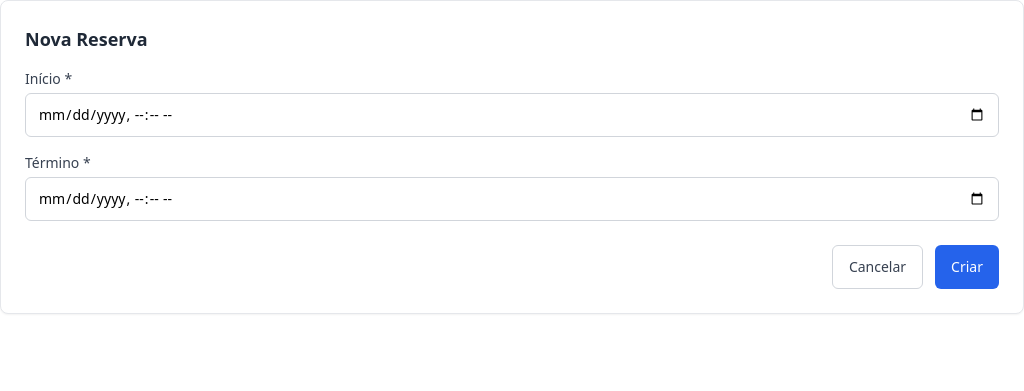
ReservationForm › shows success feedback after successful submit
In the field labelled "Início *": (512, 115) [25,93,999,137], type "2025-06-01T14:00"
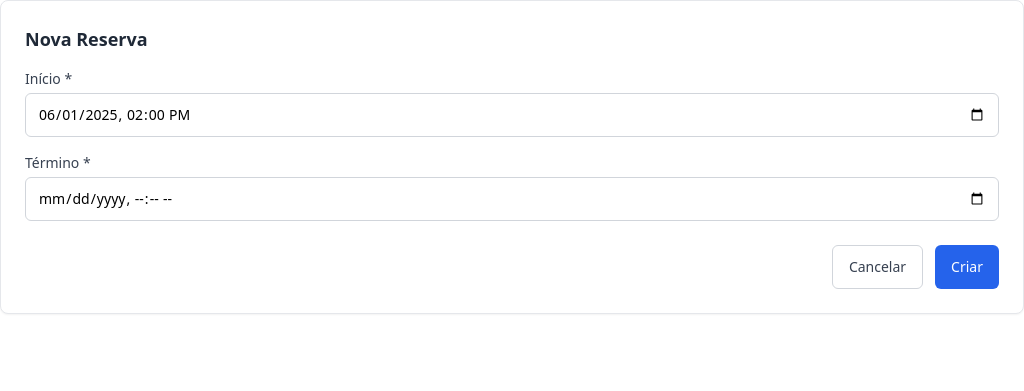
In the field labelled "Término *": (512, 199) [25,177,999,221], type "2025-06-01T16:00"
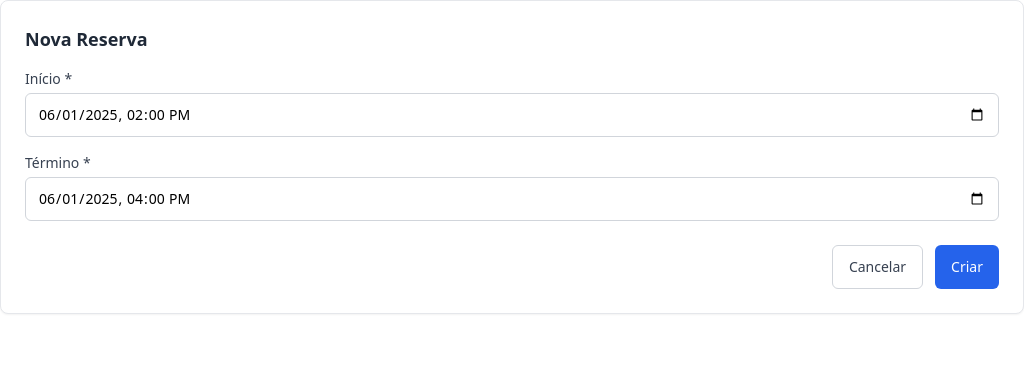
Click the button "Criar": (967, 267) [935,245,999,289]
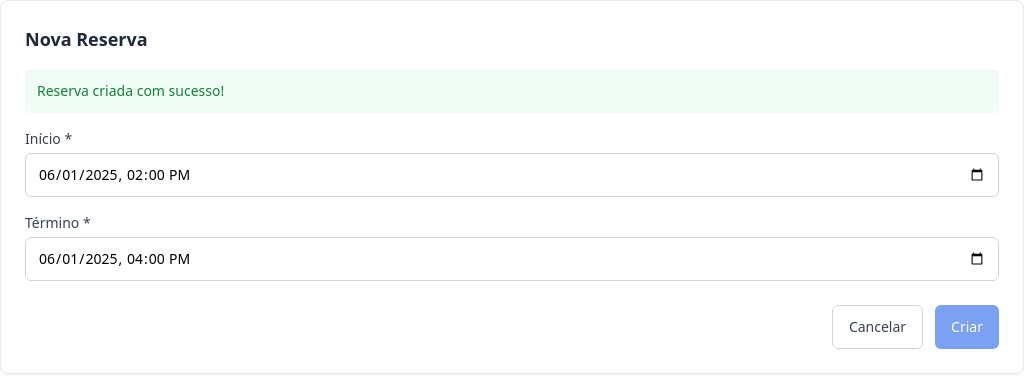
Now the text "Reserva criada com sucesso!" is shown, box [25,69,999,113]
